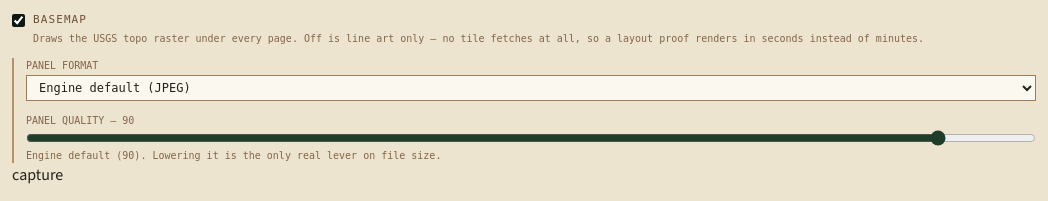
Test: BasemapOptions reaches the request › says the slider is inert for PNG rather than leaving it live
The image size is (1048, 201).
Step 1. Select "PNG — lossless, several times larger" in the dropdown labelled "Panel format" → (531, 88), box [26, 74, 1036, 100]
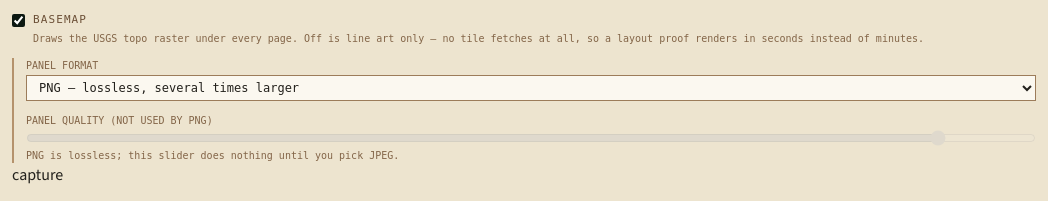
Expected: the slider labelled "Panel quality (not used by PNG)" is disabled, [26, 130, 1036, 146]
Expected: the text with test id "quality-cost" shows "lossless", [26, 150, 399, 160]
